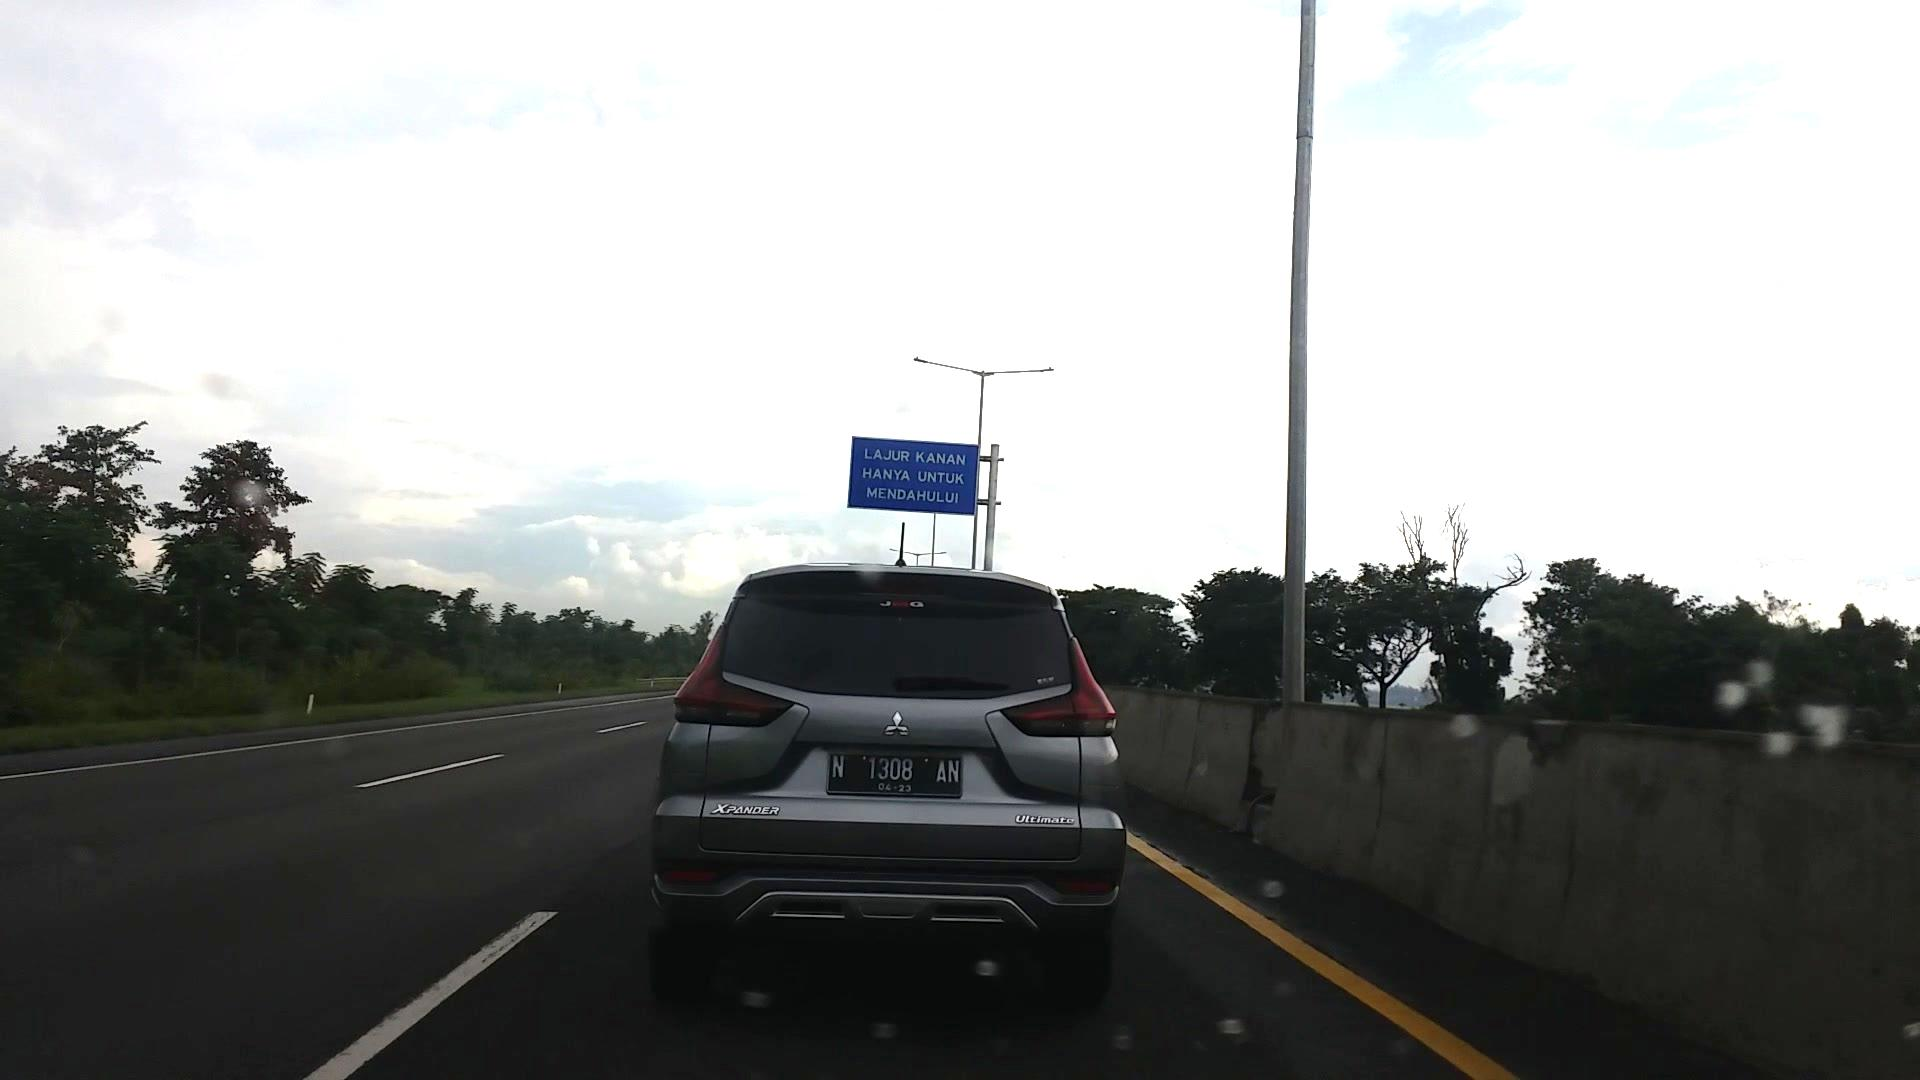plate_positive: (825, 753, 963, 796)
